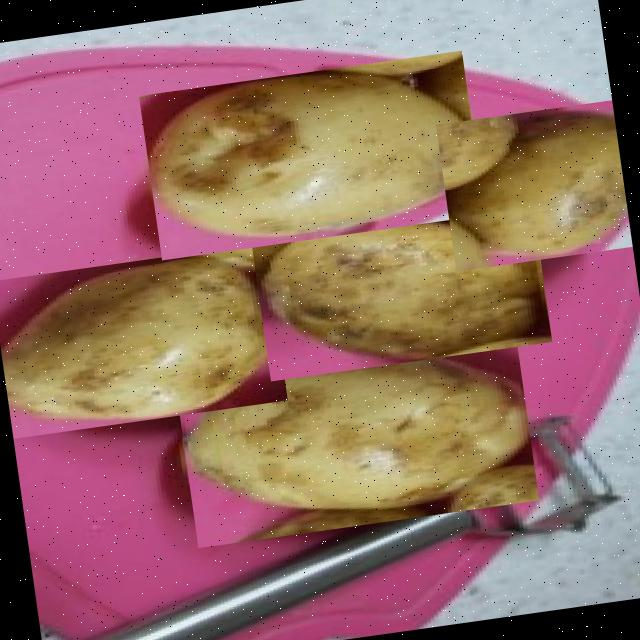Potato: (174, 325, 539, 547), (139, 49, 485, 260), (250, 190, 552, 380), (0, 242, 287, 438), (436, 100, 633, 270)
